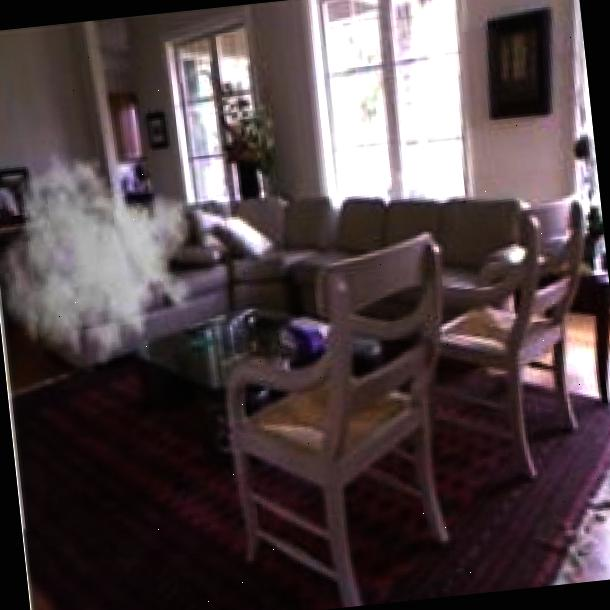smoke: (0, 137, 207, 392)
